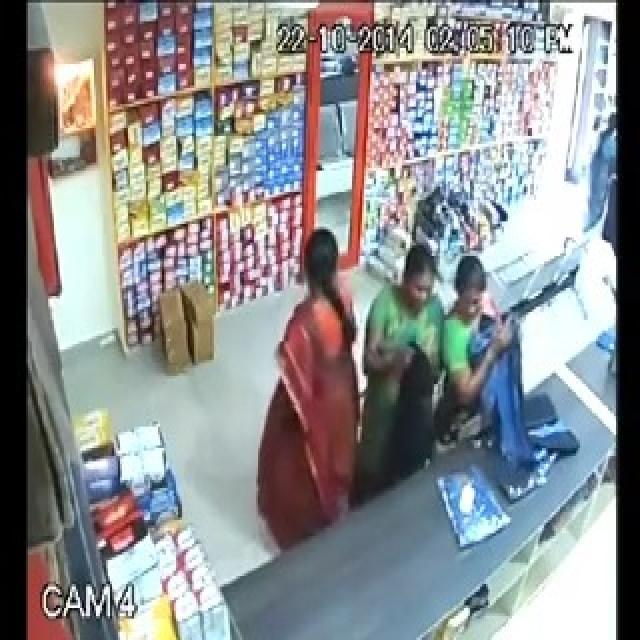Normal: (433, 239, 598, 504), (249, 214, 365, 552), (355, 228, 448, 512)
